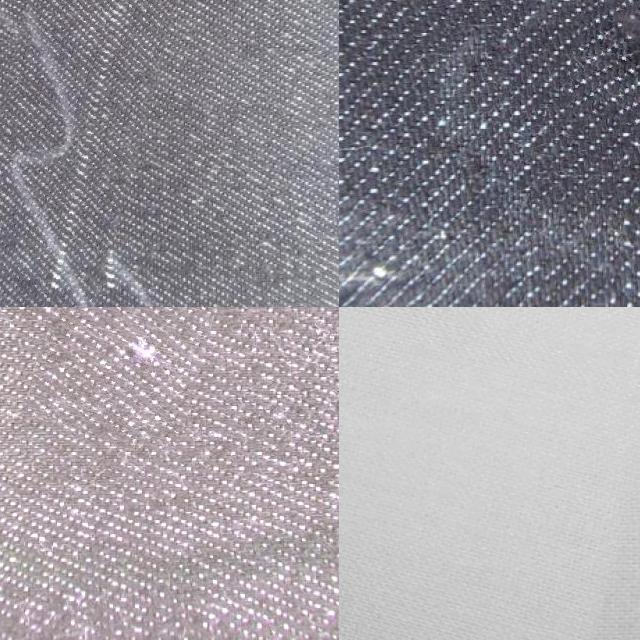Hole: (339, 307, 640, 640)
Thread_other: (34, 307, 220, 448), (565, 0, 640, 144)
